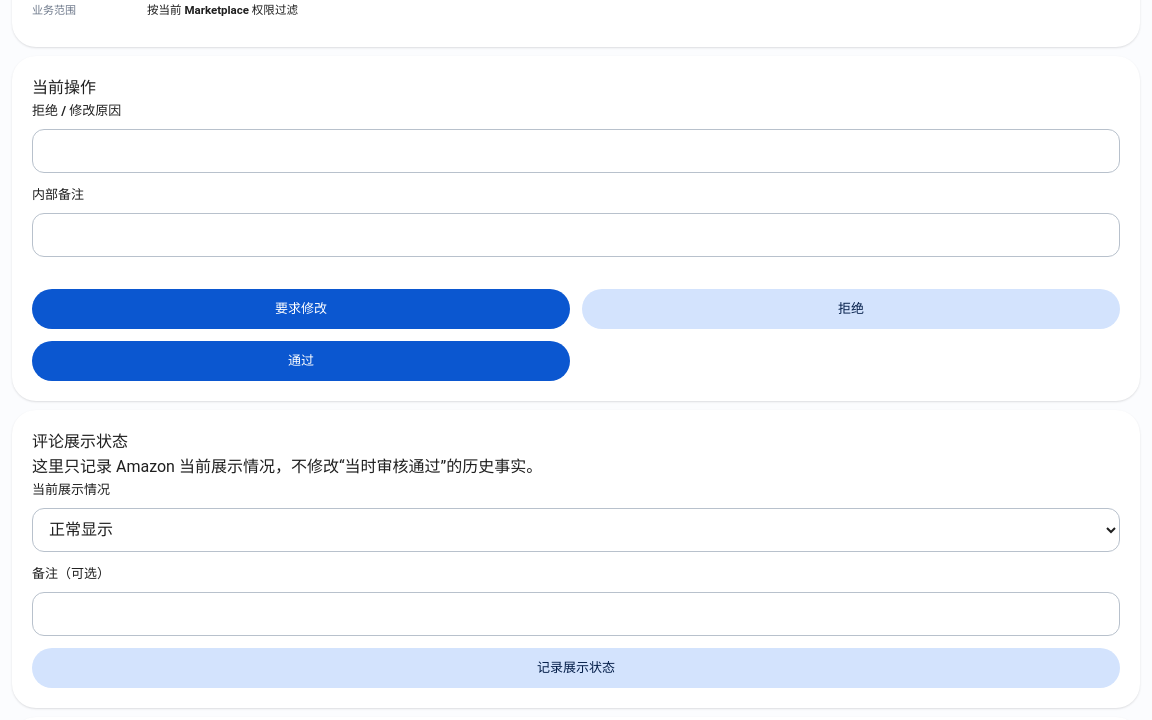
Test: review decision panel › closes a completed review decision without re-reading the completed review fact
(page scrolled)
Click the button "通过".
click(301, 361)  # box [32, 341, 570, 381]
(page scrolled)
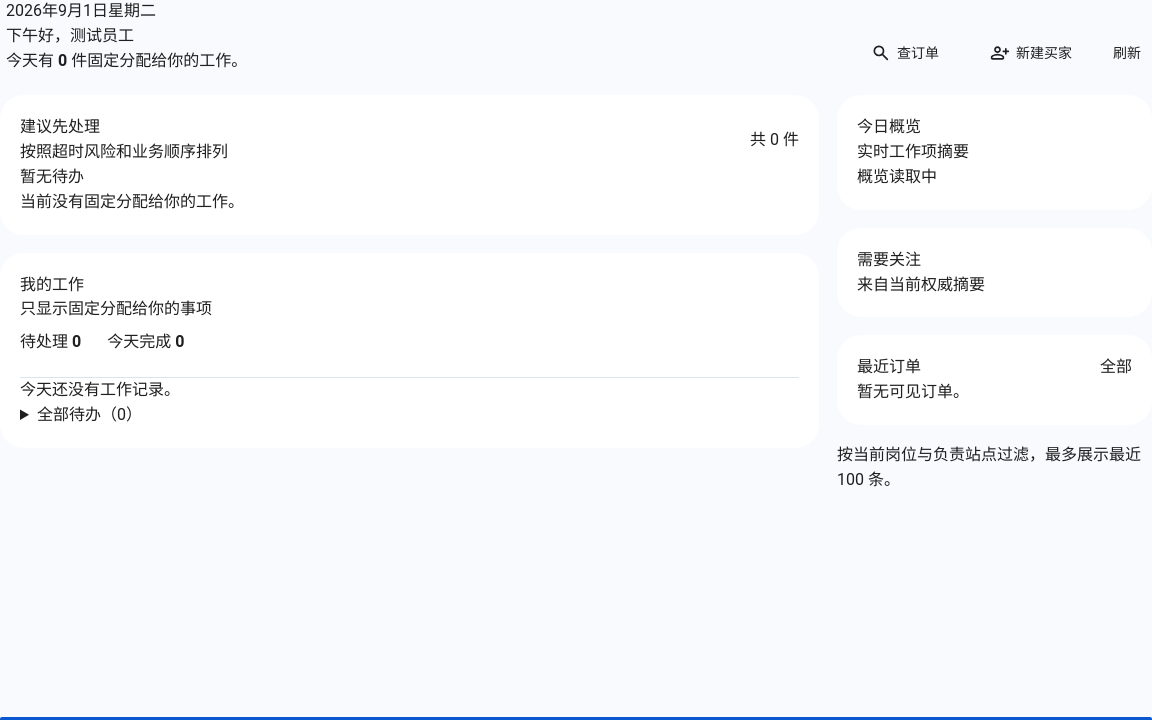
Check: the heading "暂无待办" is shown, box [20, 167, 84, 186]
